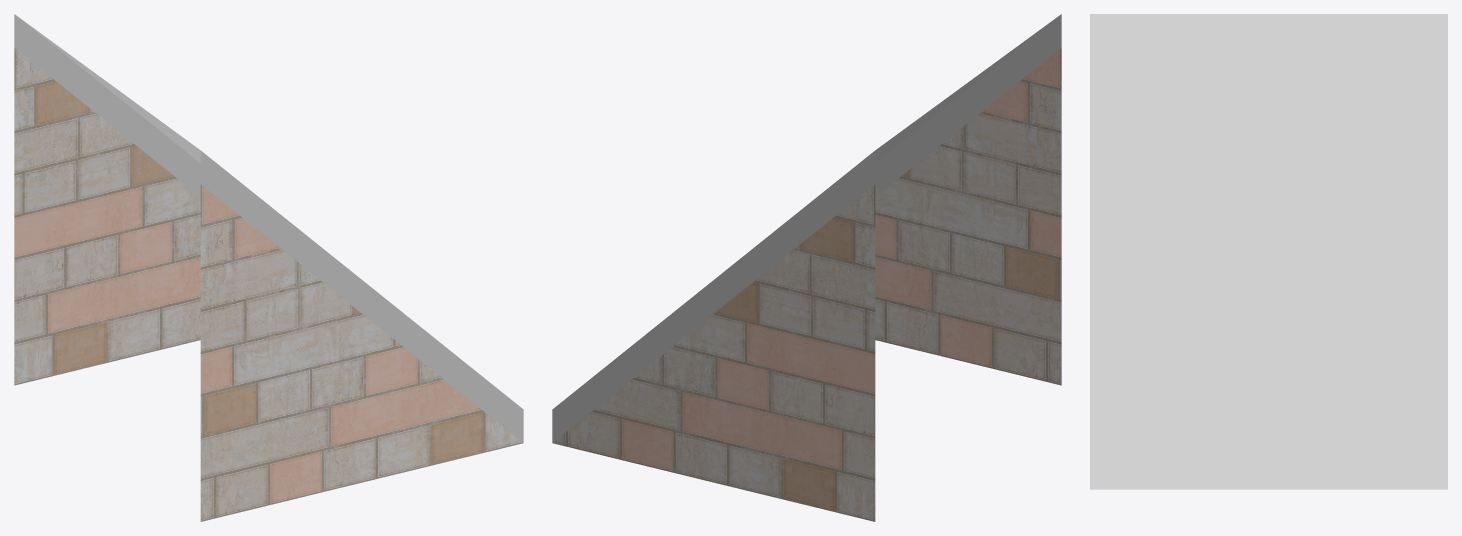
The model's file is Roof_Side.fbx.
3 renders of one model, left to right at view 1: azimuth 30°, elevation 25°; view 2: azimuth 150°, elevation 25°; view 3: azimuth 270°, elevation 25°, orthographic. The views are drawn at different scales.
Visible parts, largest first — view 1: Roof_Side; view 2: Roof_Side; view 3: Roof_Side.
Part boxes in pixels (<box>): Roof_Side: <box>14,14,523,521</box>; Roof_Side: <box>552,14,1061,521</box>; Roof_Side: <box>1090,14,1447,489</box>.
Size of the model in its own units: 200 by 220 by 200.
